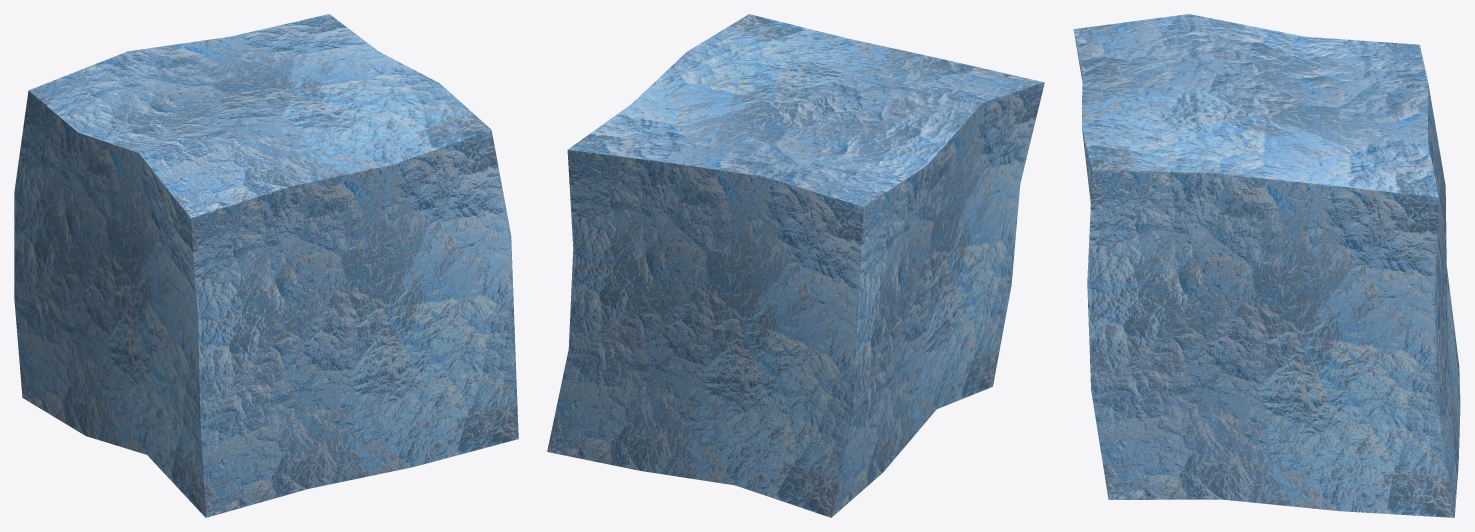
The model's file is ice_01_coll.FBX.
3 views of the same model, side by side, from view 1: azimuth 30°, elevation 25°; view 2: azimuth 150°, elevation 25°; view 3: azimuth 270°, elevation 25° (orthographic). The views are drawn at different scales.
Visible parts, largest first — view 1: ice_01_coll; view 2: ice_01_coll; view 3: ice_01_coll.
Part boxes in pixels (bbox=[...]): ice_01_coll: bbox=[14, 14, 518, 517]; ice_01_coll: bbox=[547, 14, 1044, 517]; ice_01_coll: bbox=[1073, 14, 1460, 517].
Size of the model in its own units: 27.94 by 27.6 by 27.94.
